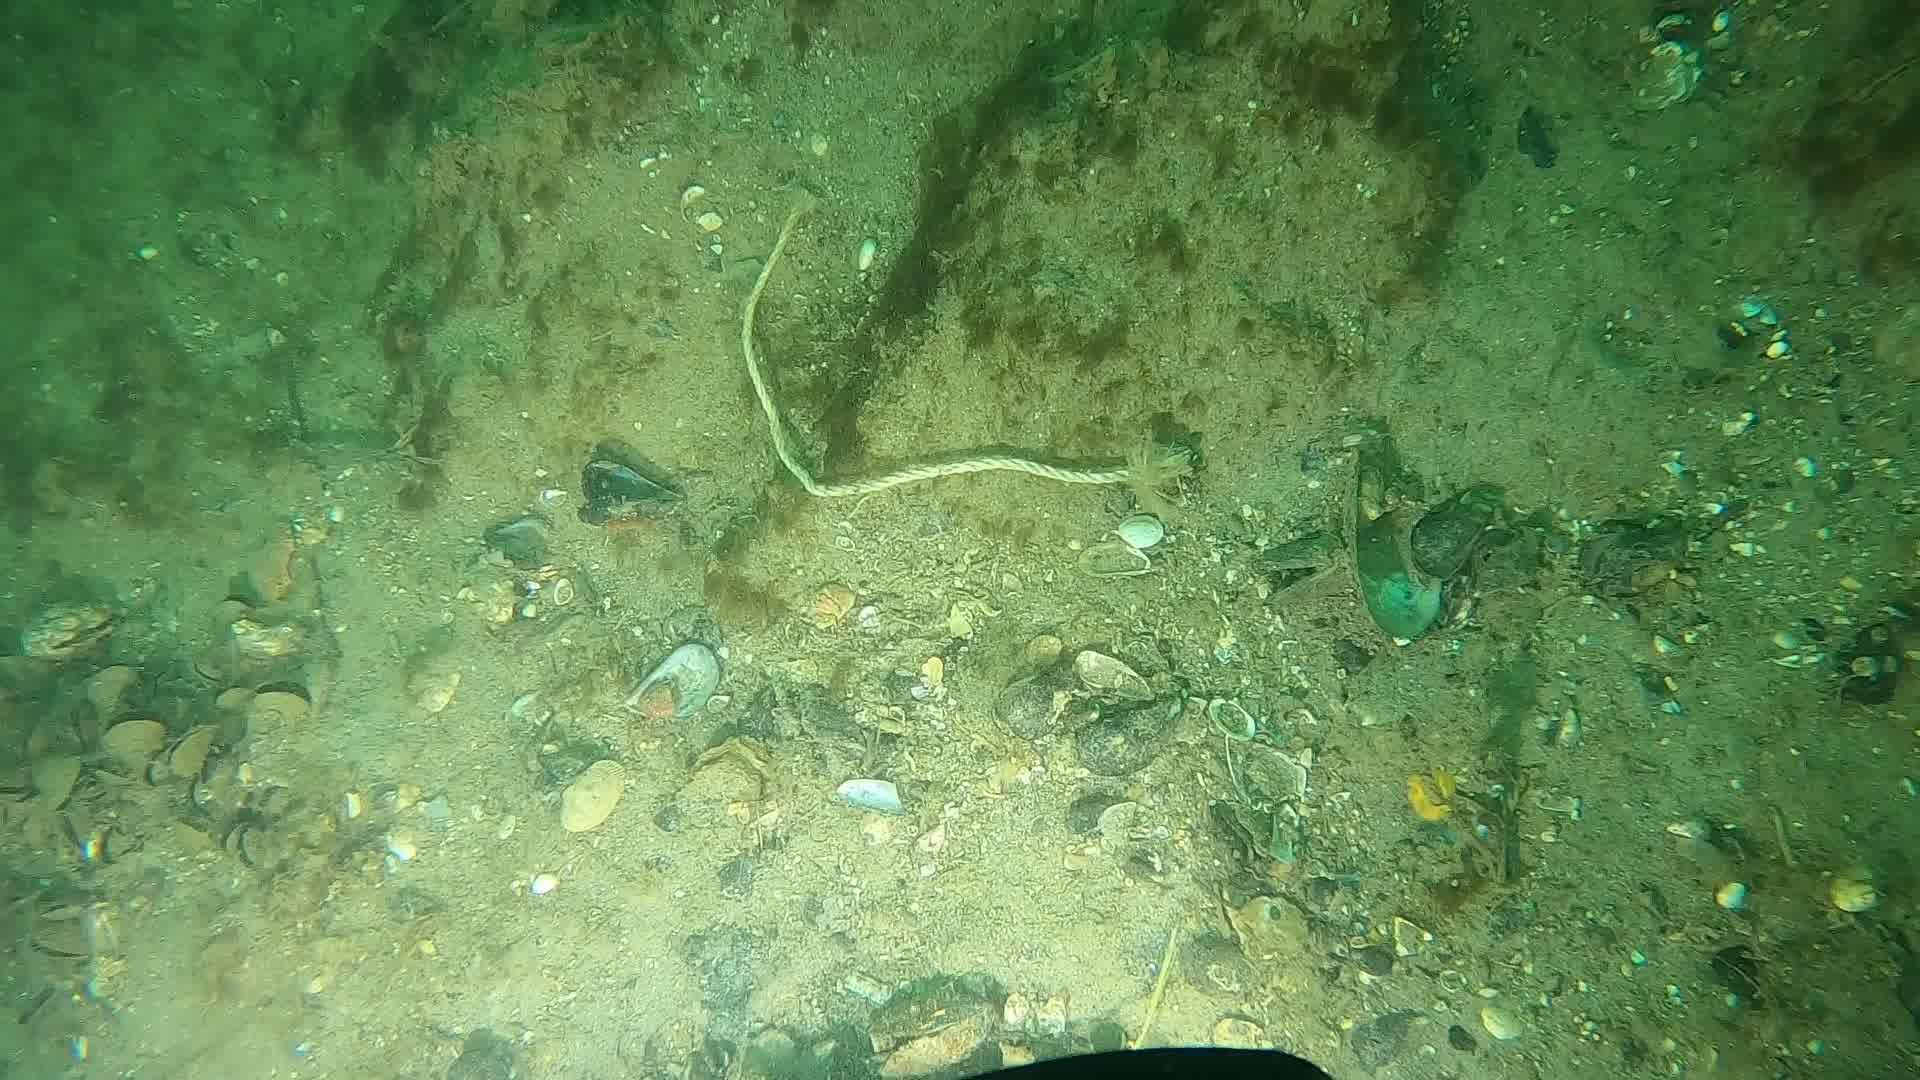rope: (738, 210, 1133, 500)
